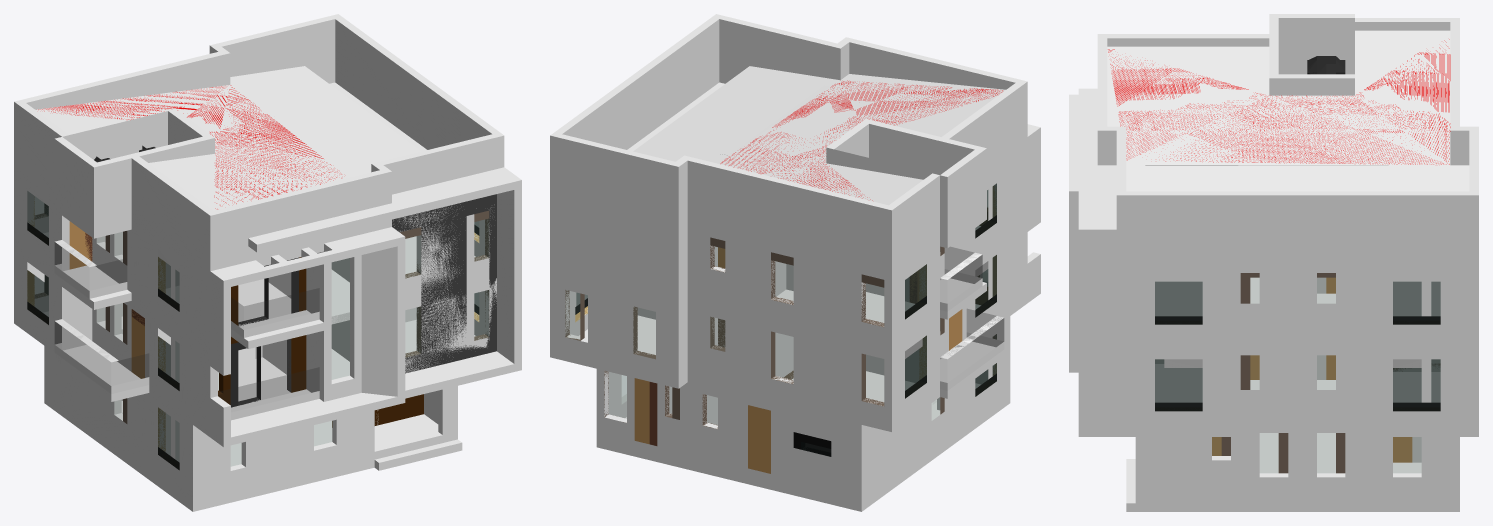
Rendered from DunMun5.glb.
The picture shows the model from 3 angles, left to right: view 1: azimuth 30°, elevation 25°; view 2: azimuth 150°, elevation 25°; view 3: azimuth 270°, elevation 25°; orthographic projection. The views are drawn at different scales.
Parts seen in each view (by area): view 1: FootPrintRoof Roofs <1654413 Generic Roof - 300mm 3<, FamilyInstance Casework Casework 2 <1657010 Casework 2<, FamilyInstance Casework Casework 1 <1655049 Casework 1<, Wall Walls <1542127 230 DARK GREY<, Wall Walls <1652191 230<, Wall Walls <1542121 230 DARK GREY<, Wall Walls <1652209 230<, Wall Walls <1652215 230<, FootPrintRoof Roofs <1654541 Generic Roof - 300mm<, Wall Walls <1652167 230<, FamilyInstance Windows Aluminum_Exterior_Window_-_1_wide_x_2 (×5), Wall Walls <1652268 230< (+43 smaller); view 2: FootPrintRoof Roofs <1654413 Generic Roof - 300mm 3<, Wall Walls <1542109 230 DARK GREY<, Wall Walls <1546883 230<, Wall Walls <1652268 230<, Wall Walls <1550750 230<, Wall Walls <1611899 230<, Wall Walls <1652191 230<, Wall Walls <1652167 230<, Wall Walls <1609183 230<, Wall Walls <1542121 230 DARK GREY<, FamilyInstance Windows Aluminum_Exterior_Window_-_1_wide_x_2 (×7), Wall Walls <1652197 230< (+31 smaller); view 3: FootPrintRoof Roofs <1654413 Generic Roof - 300mm 3<, Wall Walls <1652191 230<, Wall Walls <1542115 230 DARK GREY<, FamilyInstance Casework Casework 2 <1657010 Casework 2<, FootPrintRoof Roofs <1654541 Generic Roof - 300mm<, Wall Walls <1546889 230 DARK GREY<, Wall Walls <1577888 230<, Wall Walls <1577620 230<, Wall Walls <1606578 230<, Wall Walls <1550786 230 DARK GREY<, Wall Walls <1583614 230<, FamilyInstance Windows Aluminum_Exterior_Window_-_1_wide_x_2 (×7) (+26 smaller).
Boxes of the visible parts, left/top/right/bottom form: FootPrintRoof Roofs <1654413 Generic Roof - 300mm 3<: left=35, top=66, right=421, bottom=210; FamilyInstance Casework Casework 2 <1657010 Casework 2<: left=248, top=167, right=521, bottom=398; FamilyInstance Casework Casework 1 <1655049 Casework 1<: left=210, top=227, right=405, bottom=447; Wall Walls <1542127 230 DARK GREY<: left=200, top=388, right=450, bottom=509; Wall Walls <1652191 230<: left=335, top=17, right=504, bottom=168; Wall Walls <1542121 230 DARK GREY<: left=48, top=349, right=200, bottom=511; Wall Walls <1652209 230<: left=214, top=170, right=384, bottom=269; Wall Walls <1652215 230<: left=131, top=156, right=217, bottom=278; FootPrintRoof Roofs <1654541 Generic Roof - 300mm<: left=38, top=85, right=341, bottom=209; Wall Walls <1652167 230<: left=209, top=14, right=342, bottom=83; FamilyInstance Windows Aluminum_Exterior_Window_-_1_wide_x_2 (×5): left=332, top=210, right=489, bottom=379; Wall Walls <1652268 230<: left=22, top=50, right=230, bottom=109; FootPrintRoof Roofs <1654413 Generic Roof - 300mm 3<: left=633, top=66, right=1005, bottom=205; Wall Walls <1542109 230 DARK GREY<: left=596, top=369, right=865, bottom=511; Wall Walls <1546883 230<: left=687, top=295, right=896, bottom=431; Wall Walls <1652268 230<: left=680, top=155, right=888, bottom=271; Wall Walls <1550750 230<: left=687, top=224, right=884, bottom=342; Wall Walls <1611899 230<: left=550, top=270, right=683, bottom=388; Wall Walls <1652191 230<: left=555, top=14, right=723, bottom=149; Wall Walls <1652167 230<: left=550, top=132, right=683, bottom=230; Wall Walls <1609183 230<: left=550, top=199, right=671, bottom=299; Wall Walls <1542121 230 DARK GREY<: left=866, top=316, right=1010, bottom=508; FamilyInstance Windows Aluminum_Exterior_Window_-_1_wide_x_2 (×7): left=565, top=252, right=884, bottom=422; Wall Walls <1652197 230<: left=719, top=16, right=836, bottom=83; FootPrintRoof Roofs <1654413 Generic Roof - 300mm 3<: left=1107, top=30, right=1469, bottom=191; Wall Walls <1652191 230<: left=1116, top=191, right=1469, bottom=272; Wall Walls <1542115 230 DARK GREY<: left=1135, top=433, right=1450, bottom=511; FamilyInstance Casework Casework 2 <1657010 Casework 2<: left=1078, top=88, right=1116, bottom=436; FootPrintRoof Roofs <1654541 Generic Roof - 300mm<: left=1108, top=39, right=1450, bottom=164; Wall Walls <1546889 230 DARK GREY<: left=1240, top=338, right=1354, bottom=432; Wall Walls <1577888 230<: left=1126, top=342, right=1240, bottom=436; Wall Walls <1577620 230<: left=1355, top=342, right=1469, bottom=436; Wall Walls <1606578 230<: left=1116, top=264, right=1240, bottom=341; Wall Walls <1550786 230 DARK GREY<: left=1240, top=273, right=1354, bottom=337; Wall Walls <1583614 230<: left=1355, top=264, right=1469, bottom=341; FamilyInstance Windows Aluminum_Exterior_Window_-_1_wide_x_2 (×7): left=1240, top=273, right=1420, bottom=473.
Size of what is drawn, in the model's own units: 13.72 by 11.89 by 13.11.
